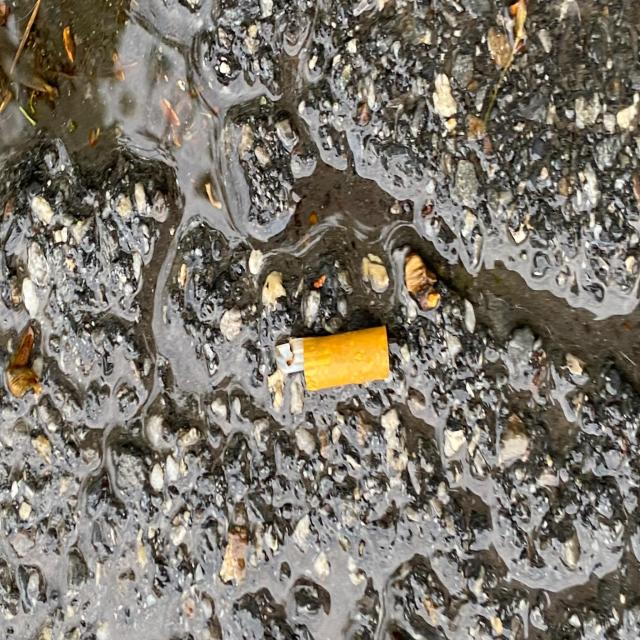other waste: (298, 326, 390, 389)
